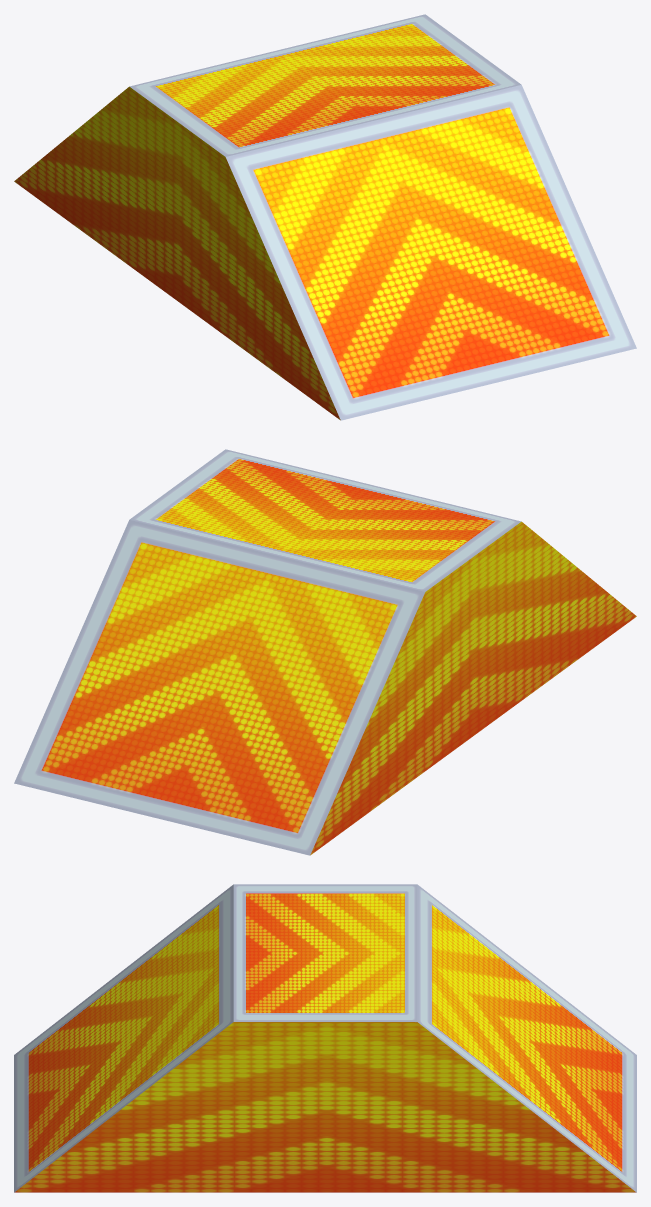
File: booster2.glb
3 renders of one model, top to bottom at view 1: azimuth 30°, elevation 25°; view 2: azimuth 150°, elevation 25°; view 3: azimuth 270°, elevation 25°, orthographic. The views are drawn at different scales.
Parts seen in each view (by area): view 1: Cube; view 2: Cube; view 3: Cube.
Part boxes in pixels (box(x1,y1,x2,y2)): Cube: box(14, 14, 636, 420); Cube: box(14, 449, 636, 855); Cube: box(14, 884, 636, 1192).
Size of the model in its own units: 2 by 1.16 by 3.82.
Materials: 1 (1 with a texture image).
